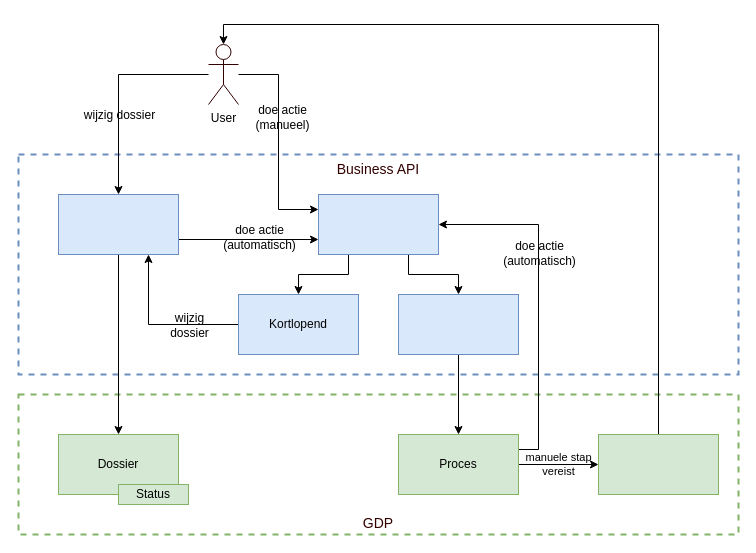
This 756x553 diagram has some shape labels left out. Each missing label, with the centre of its shape:
"Actie" goes at [378,224].
"Dossierwijziging" goes at [118,224].
"Langlopend" goes at [458,324].
"Taak" goes at [658,464].
